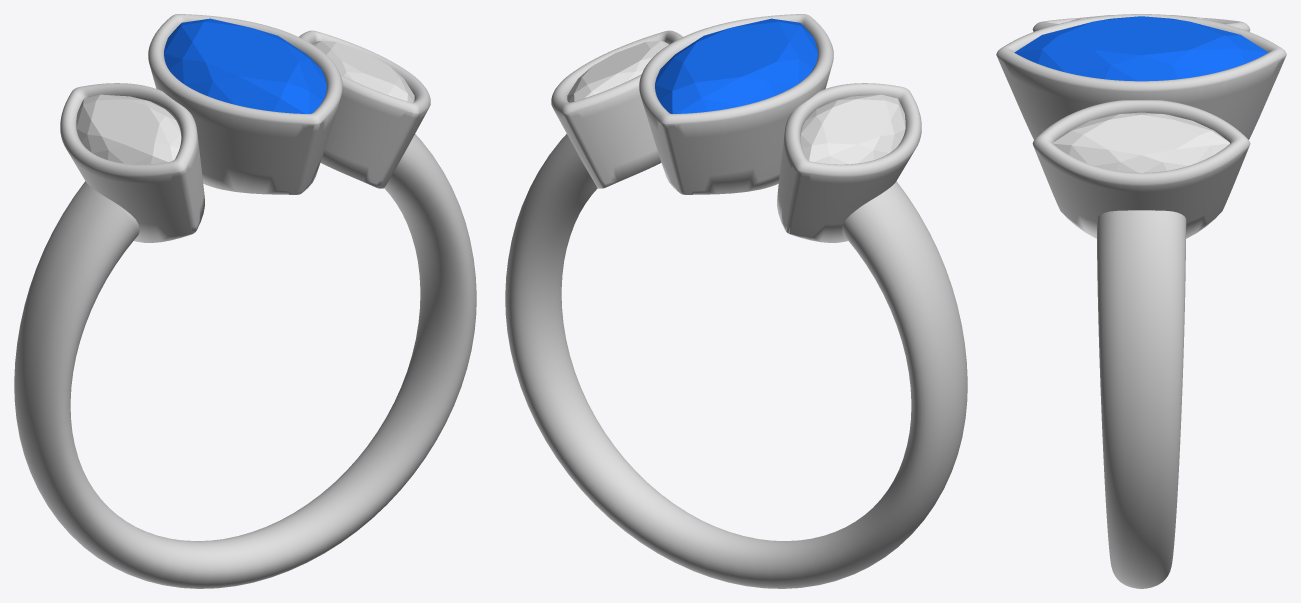
Rendered from bluesapphire-marquise-platinum-bezelset-taperedband-3stone.glb.
The picture shows the model from 3 angles, left to right: view 1: azimuth 30°, elevation 25°; view 2: azimuth 150°, elevation 25°; view 3: azimuth 270°, elevation 25°; orthographic projection.
Parts seen in each view (by area): view 1: metal.002, stone.002, side.005, side.004; view 2: metal.002, stone.002, side.005, side.004; view 3: metal.002, stone.002, side.004.
Boxes of the visible parts, <box> form: metal.002: <box>14,14,476,588</box>; stone.002: <box>164,18,326,113</box>; side.005: <box>76,94,181,164</box>; side.004: <box>313,41,414,102</box>; metal.002: <box>505,14,967,588</box>; stone.002: <box>655,18,817,113</box>; side.005: <box>800,94,905,164</box>; side.004: <box>567,41,668,102</box>; metal.002: <box>996,14,1286,588</box>; stone.002: <box>1014,16,1268,81</box>; side.004: <box>1053,112,1229,172</box>.
Bounding box in the file's own units: 20.09 × 22.73 × 11.31.
